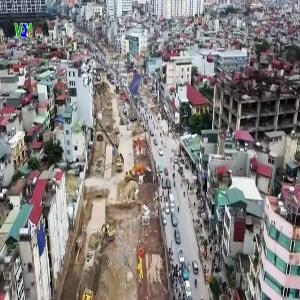drone: (116, 65, 167, 116)
